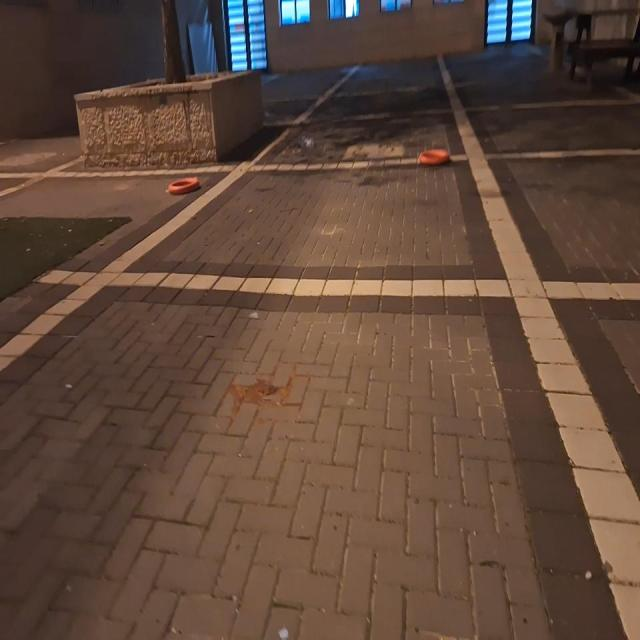note: (168, 177, 200, 195), (419, 150, 450, 165)
